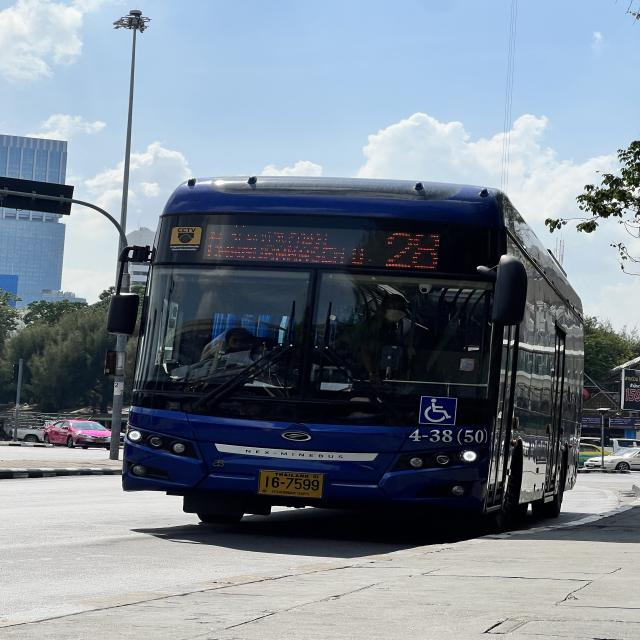Bus Line Number: (378, 222, 448, 276)
Bus Side Number: (404, 424, 490, 444)
Destination Sign: (201, 216, 371, 276)
TSB-Bus: (112, 175, 586, 534)
